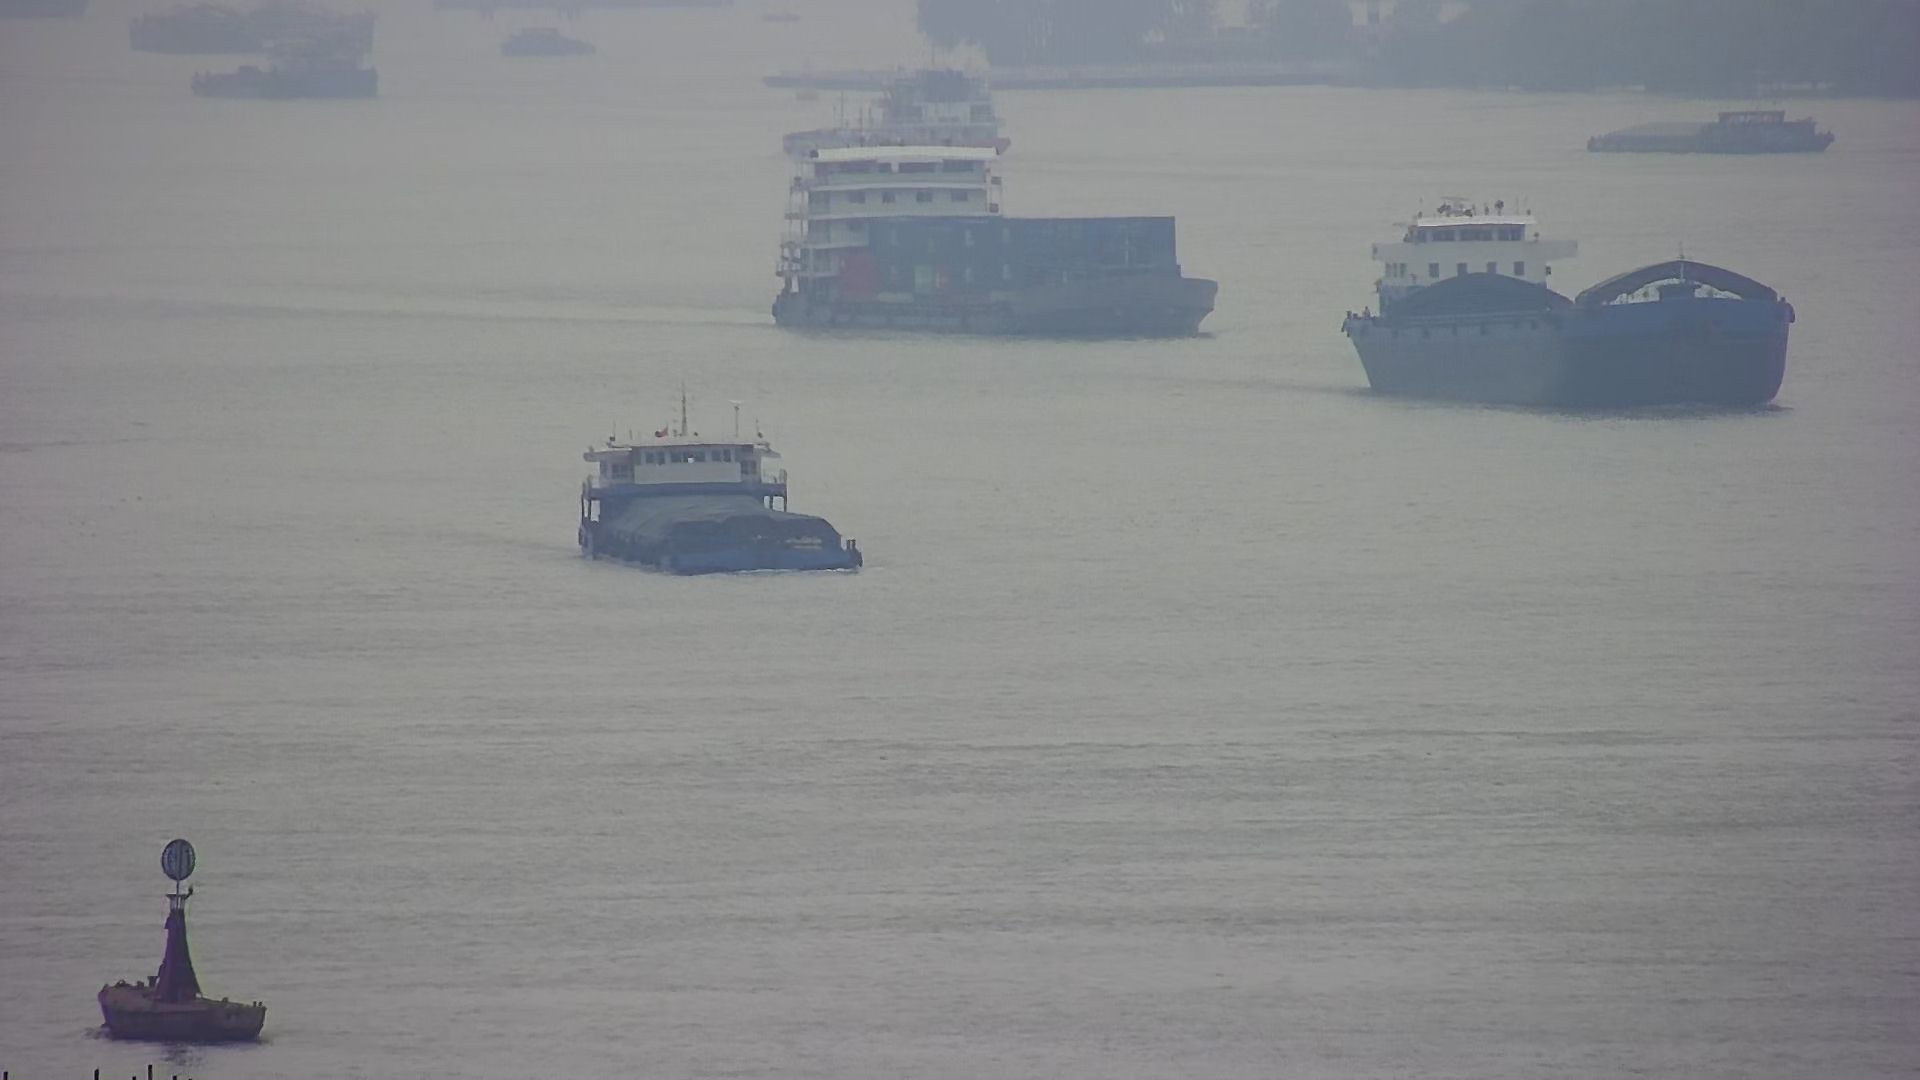boat: (99, 837, 264, 1038)
ship: (1338, 199, 1785, 400), (778, 150, 1224, 338), (568, 397, 862, 574), (773, 70, 1018, 152), (1589, 109, 1846, 156)
